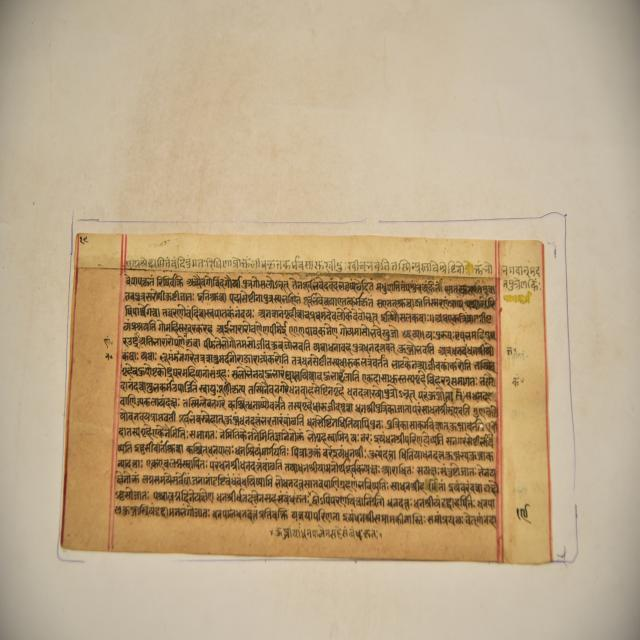text_paragraph: (55, 233, 553, 565)
